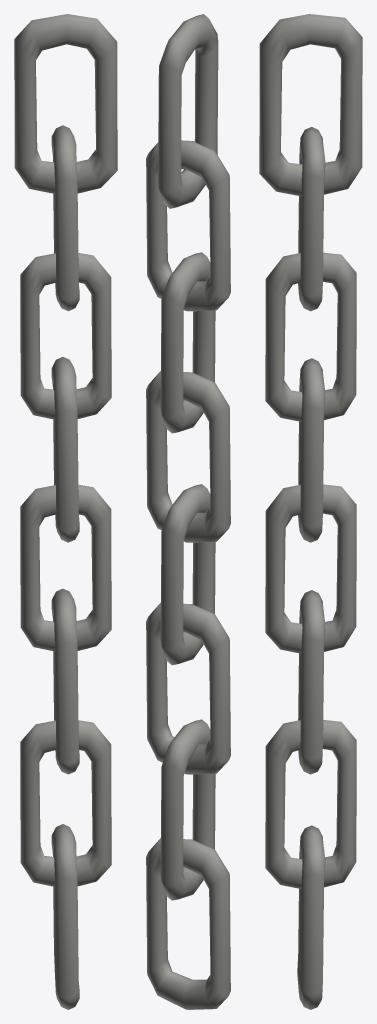
File: Chain.fbx
3 renders of one model, left to right at view 1: azimuth 90°, elevation 25°; view 2: azimuth 150°, elevation 25°; view 3: azimuth 270°, elevation 25°, orthographic.
Parts seen in each view (by area): view 1: Chain; view 2: Chain; view 3: Chain.
Boxes of the visible parts, x1,y1,x2,y2 form: Chain: (14, 14, 117, 1009); Chain: (146, 14, 230, 1009); Chain: (259, 14, 362, 1009).
Bounding box in the file's own units: 0.0632 × 0.7547 × 0.0713.
Materials: 1 (1 with a texture image).
